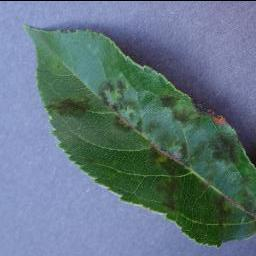apple healthy: (23, 22, 255, 248)
